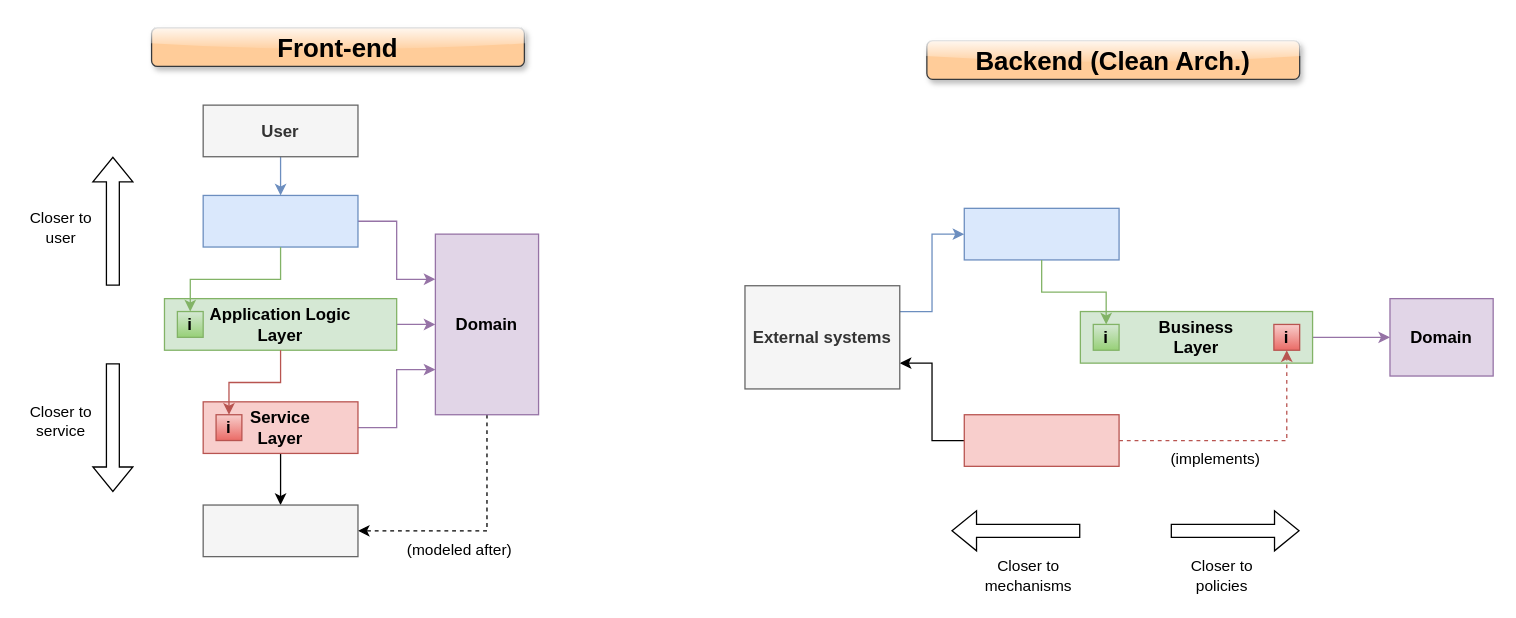
The diagram is 1516 pixels wide and 618 high, and some of its shapes have lost their labels. Here are the shapes that lost their labels. From the top down, the centre of each, then its label:
At (280,220): "View Layer".
At (1041,233): "Presentation Layer".
At (1041,439): "Data Layer".
At (280,530): "Frameworks / APIs".
